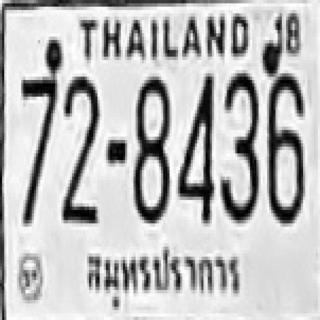N02: (60, 75, 99, 222)
N03: (219, 70, 258, 220)
N04: (176, 70, 212, 220)
N06: (265, 70, 303, 220)
N07: (19, 73, 57, 223), (19, 73, 57, 177)
N08: (131, 73, 170, 220)
P57: (84, 243, 247, 311)
